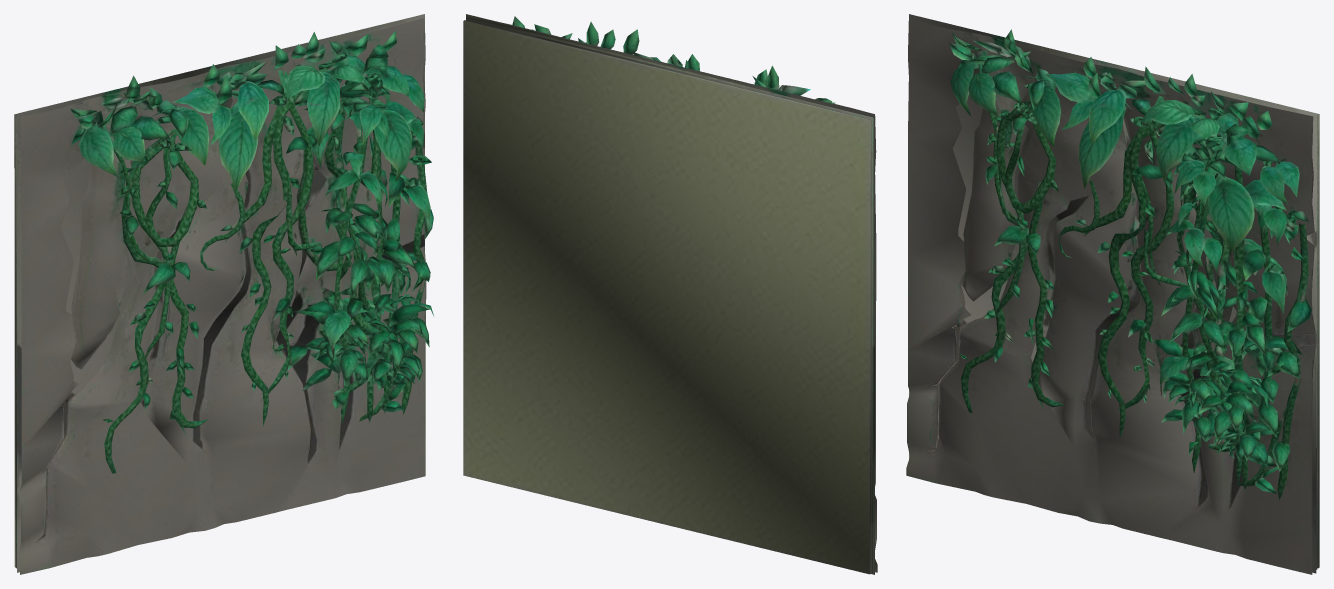
The model's file is vine_wall.glb.
3 renders of one model, left to right at view 1: azimuth 30°, elevation 25°; view 2: azimuth 150°, elevation 25°; view 3: azimuth 330°, elevation 25°, orthographic.
Size of the model in its own units: 0.8545 by 0.9531 by 0.1631.
1 material, 1 textured.
